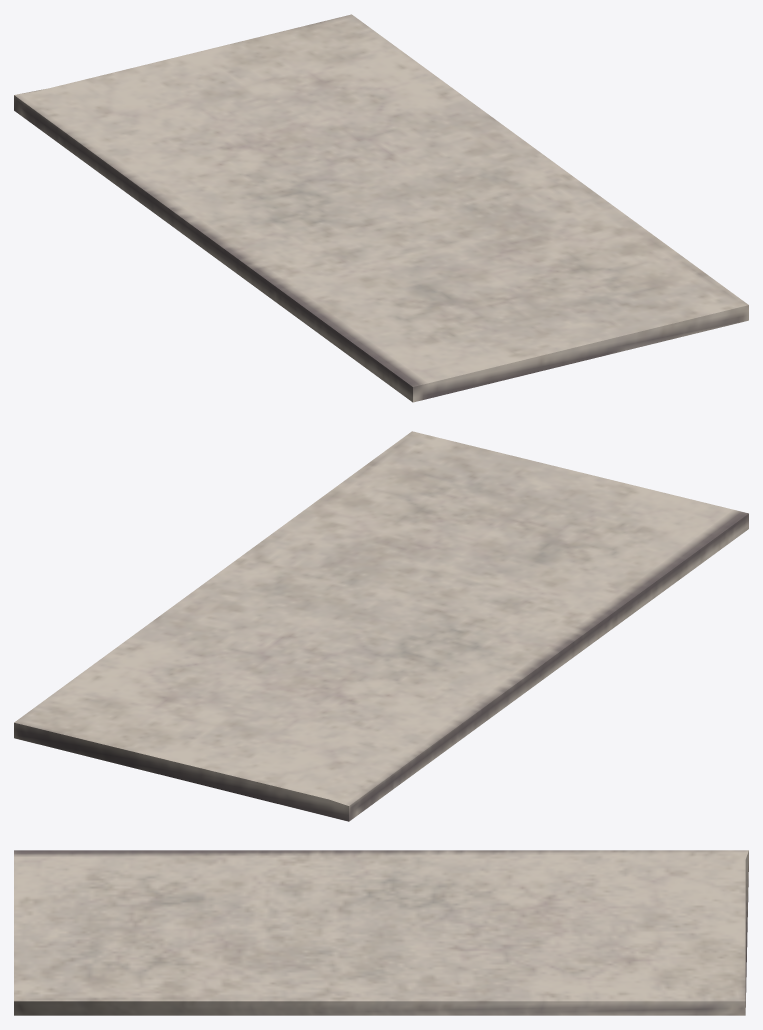
File: marbel_midle.fbx
3 renders of one model, top to bottom at view 1: azimuth 30°, elevation 25°; view 2: azimuth 150°, elevation 25°; view 3: azimuth 270°, elevation 25°, orthographic. The views are drawn at different scales.
Parts seen in each view (by area): view 1: marble; view 2: marble; view 3: marble.
Boxes of the visible parts, x1,y1,x2,y2 form: marble: [14, 14, 748, 402]; marble: [14, 431, 748, 821]; marble: [14, 850, 748, 1015].
Bounding box in the file's own units: 90.71 × 4 × 187.
1 material, 1 textured.
